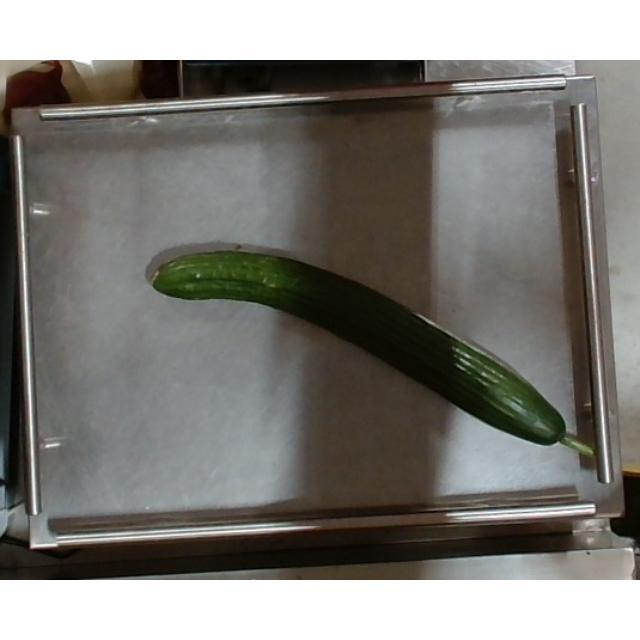cucumber: (145, 245, 599, 458)
